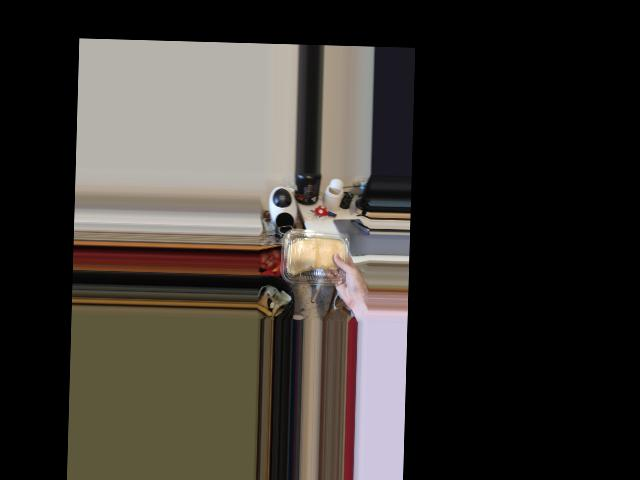cheese: (285, 223, 347, 289)
